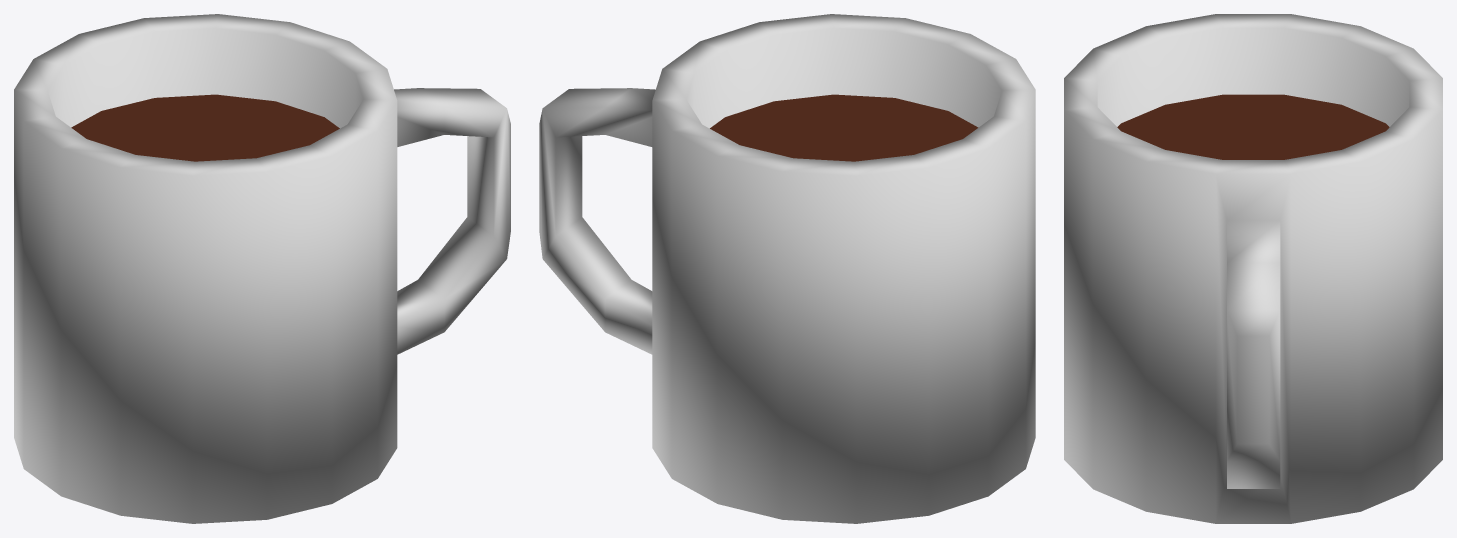
File: mug.glb
3 renders of one model, left to right at view 1: azimuth 30°, elevation 25°; view 2: azimuth 150°, elevation 25°; view 3: azimuth 270°, elevation 25°, orthographic.
Visible parts, largest first — view 1: Circle; view 2: Circle; view 3: Circle.
Part boxes in pixels (bbox=[...]): Circle: bbox=[14, 14, 510, 523]; Circle: bbox=[539, 14, 1035, 523]; Circle: bbox=[1064, 14, 1442, 523].
Size of the model in its own units: 0.1108 by 0.08 by 0.0785.
